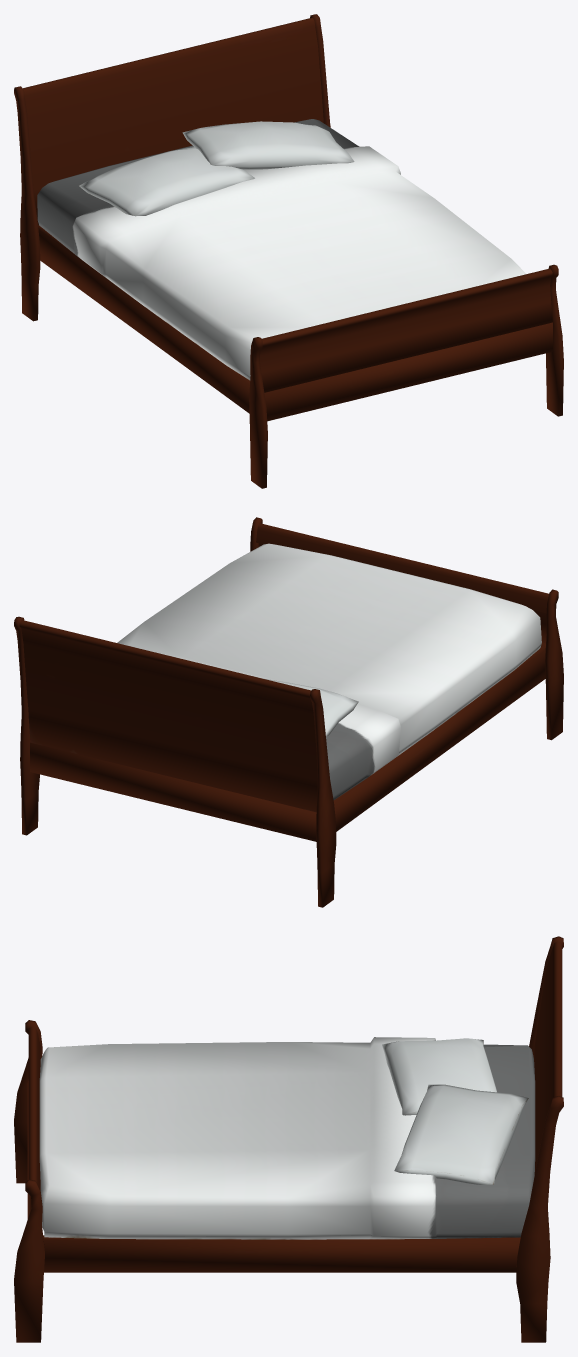
The model's file is Queen_Bed_1.fbx.
3 views of the same model, one above another, from view 1: azimuth 30°, elevation 25°; view 2: azimuth 150°, elevation 25°; view 3: azimuth 270°, elevation 25° (orthographic). The views are drawn at different scales.
Visible parts, largest first — view 1: Cube.001; view 2: Cube.001; view 3: Cube.001.
Boxes of the visible parts, <box> form: Cube.001: <box>14,14,563,488</box>; Cube.001: <box>14,517,563,907</box>; Cube.001: <box>14,936,563,1342</box>.
Size of the model in its own units: 353 by 248 by 506.
Materials: 1 (1 with a texture image).
